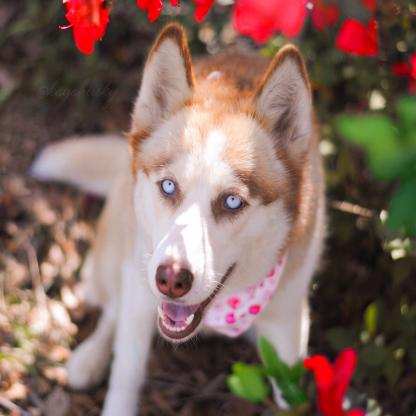dog: (25, 24, 328, 416)
